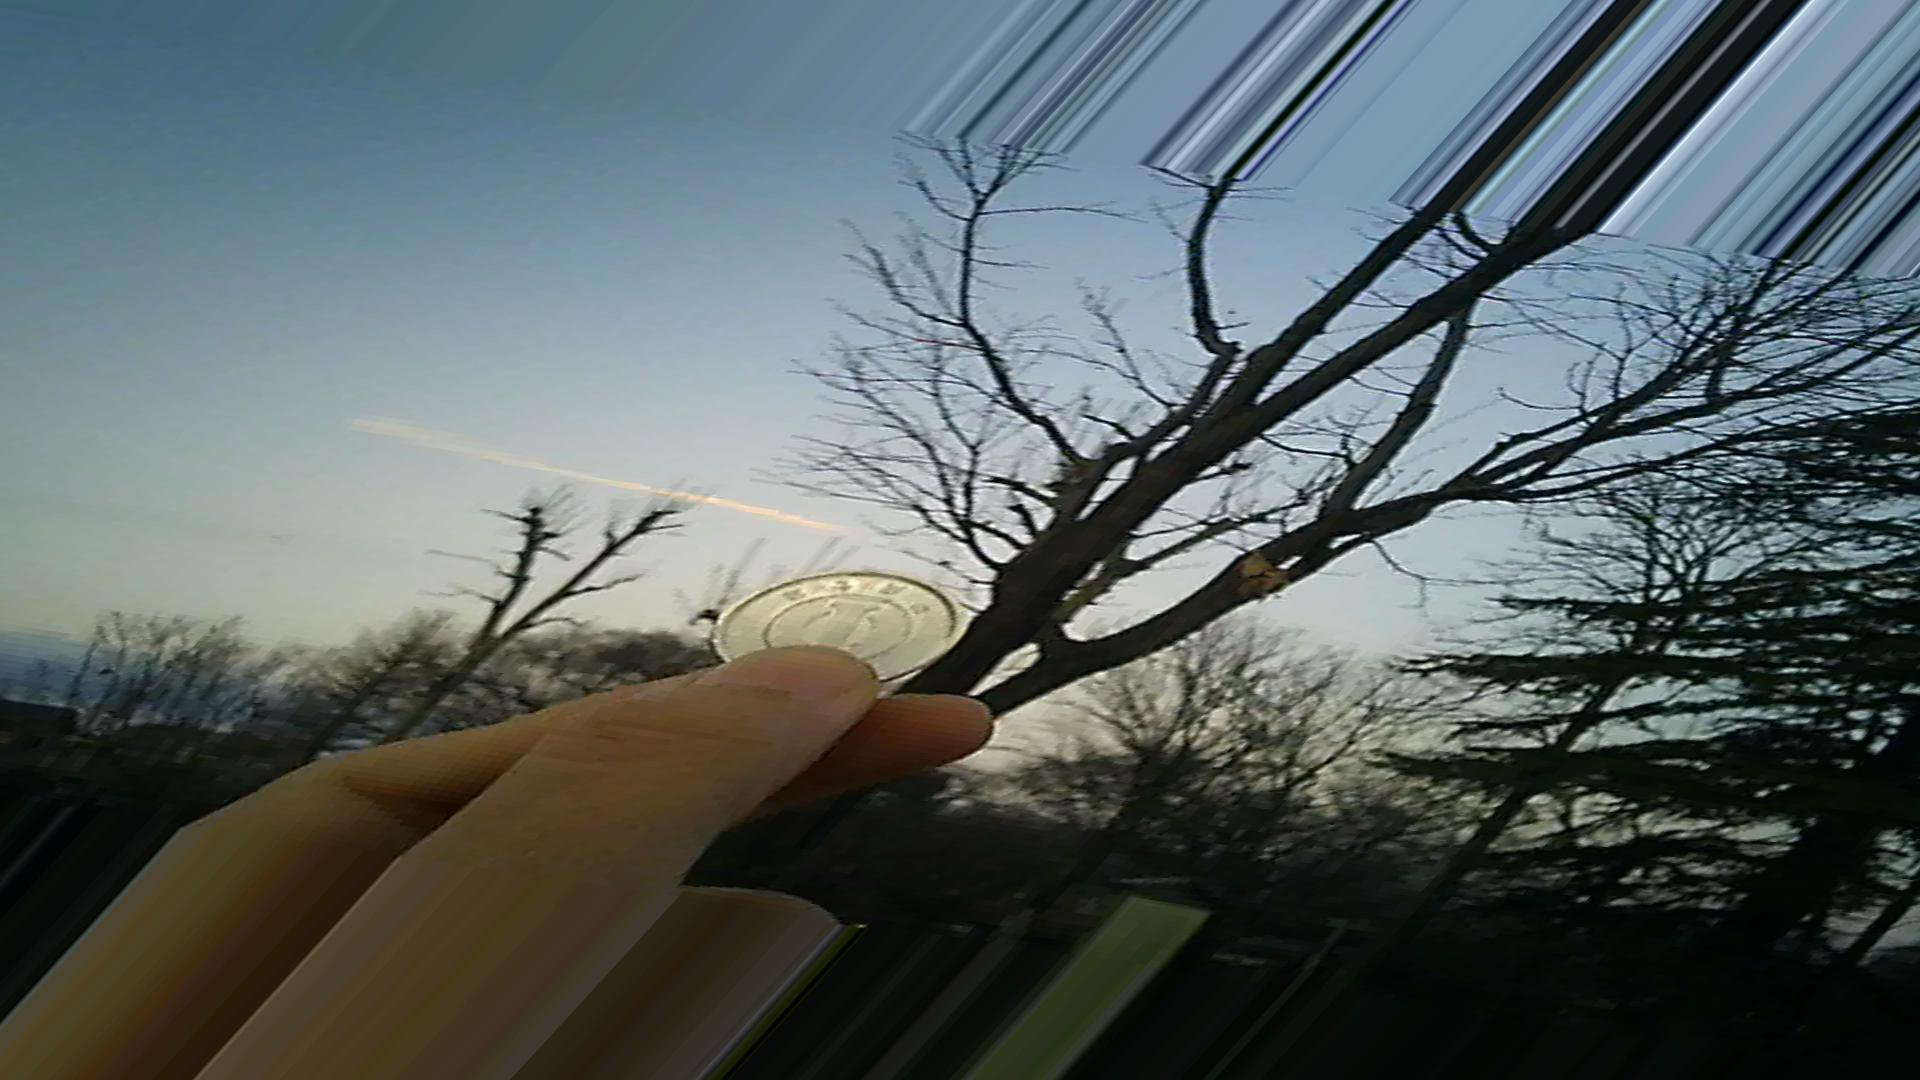1 Yen: (713, 570, 953, 688)
